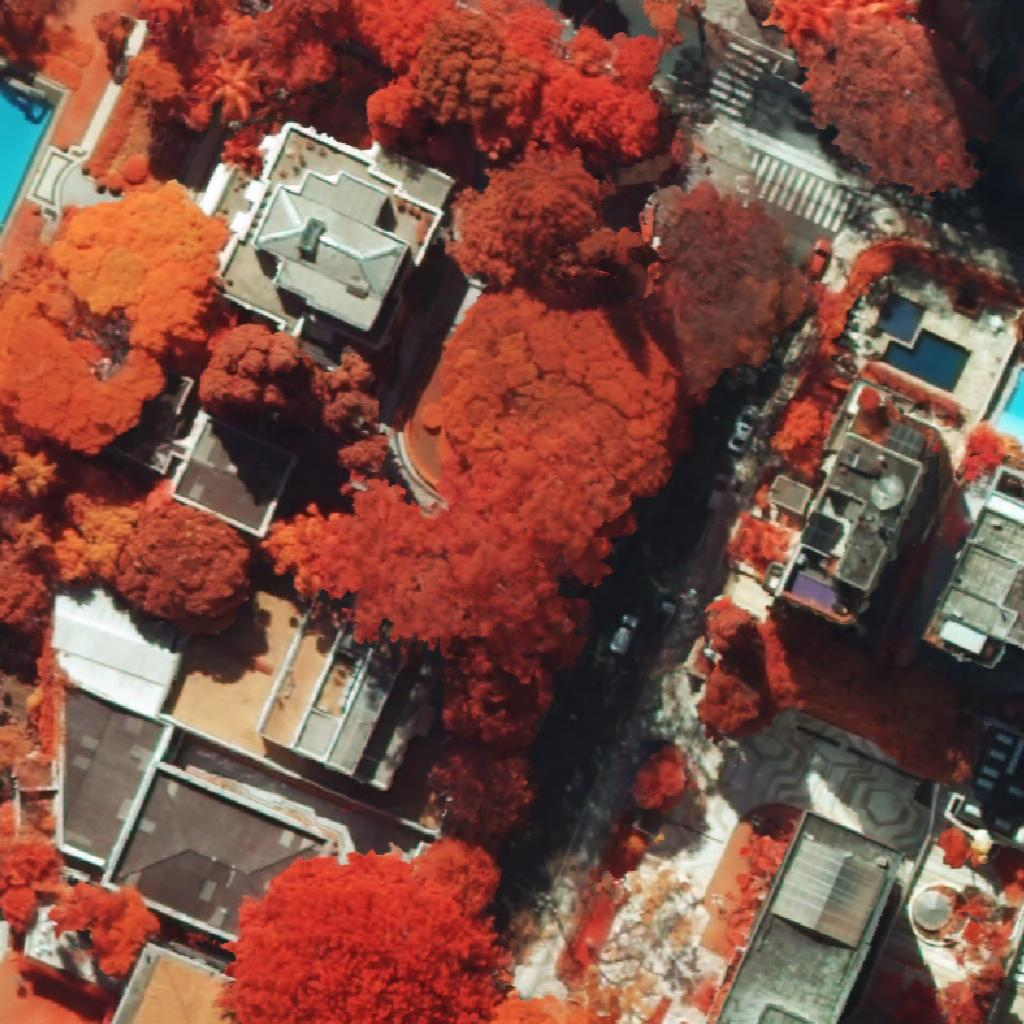pool: (881, 329, 971, 393), (876, 293, 926, 342), (996, 369, 1024, 439)
